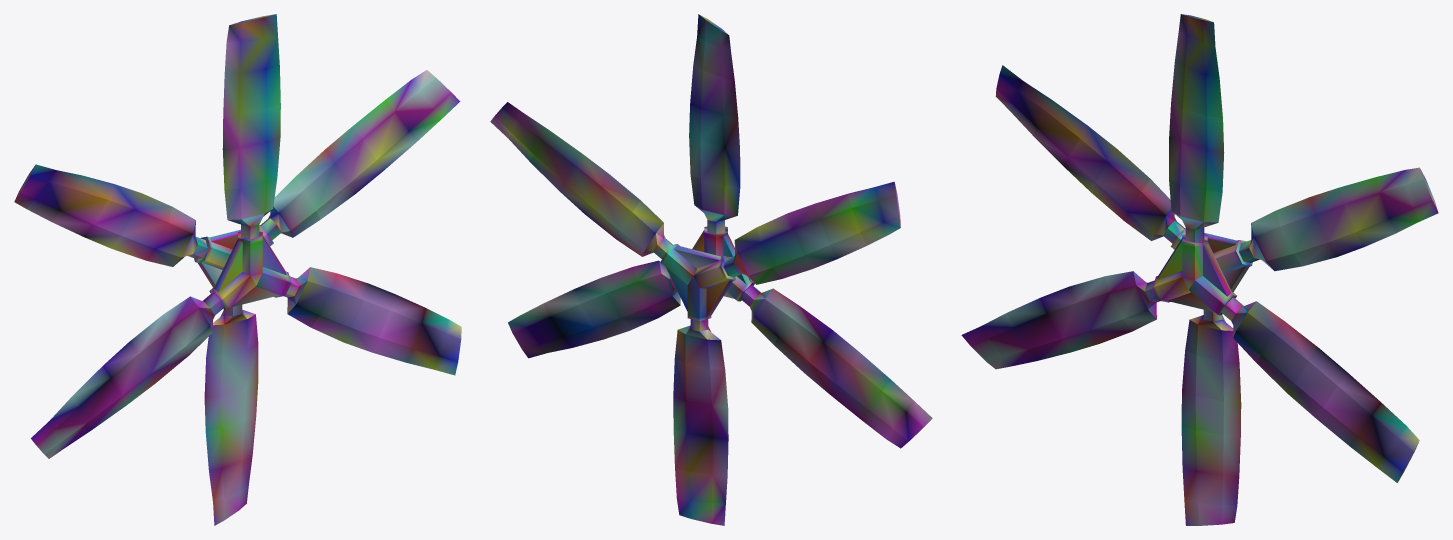
File: Propeller.fbx
The picture shows the model from 3 angles, left to right: view 1: azimuth 30°, elevation 25°; view 2: azimuth 150°, elevation 25°; view 3: azimuth 330°, elevation 25°; orthographic projection. The views are drawn at different scales.
Parts seen in each view (by area): view 1: Propeller; view 2: Propeller; view 3: Propeller.
Part boxes in pixels (x1=…): Propeller: x1=14, y1=14, x2=461, y2=525; Propeller: x1=490, y1=14, x2=932, y2=525; Propeller: x1=961, y1=14, x2=1438, y2=525.
Bounding box in the file's own units: 1007 × 1106 × 116.
